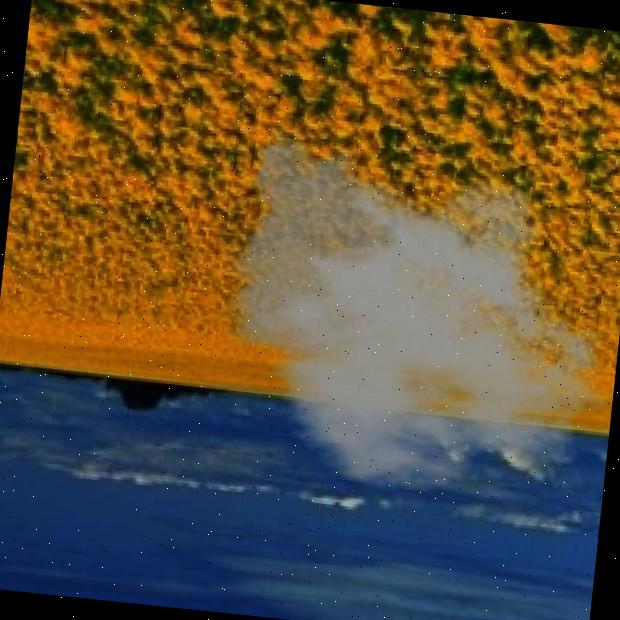smoke: (198, 115, 620, 512)
